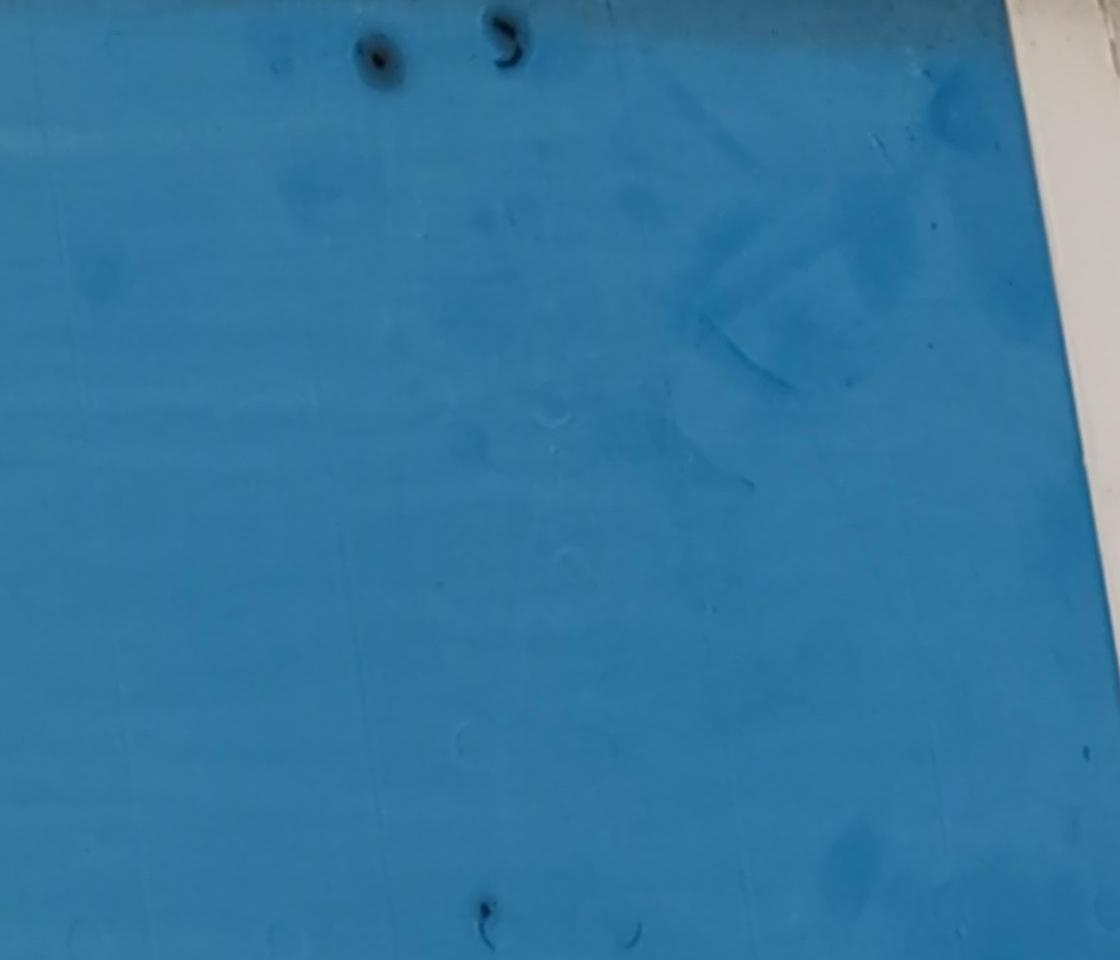scratch: (470, 891, 505, 956), (622, 916, 647, 952)
